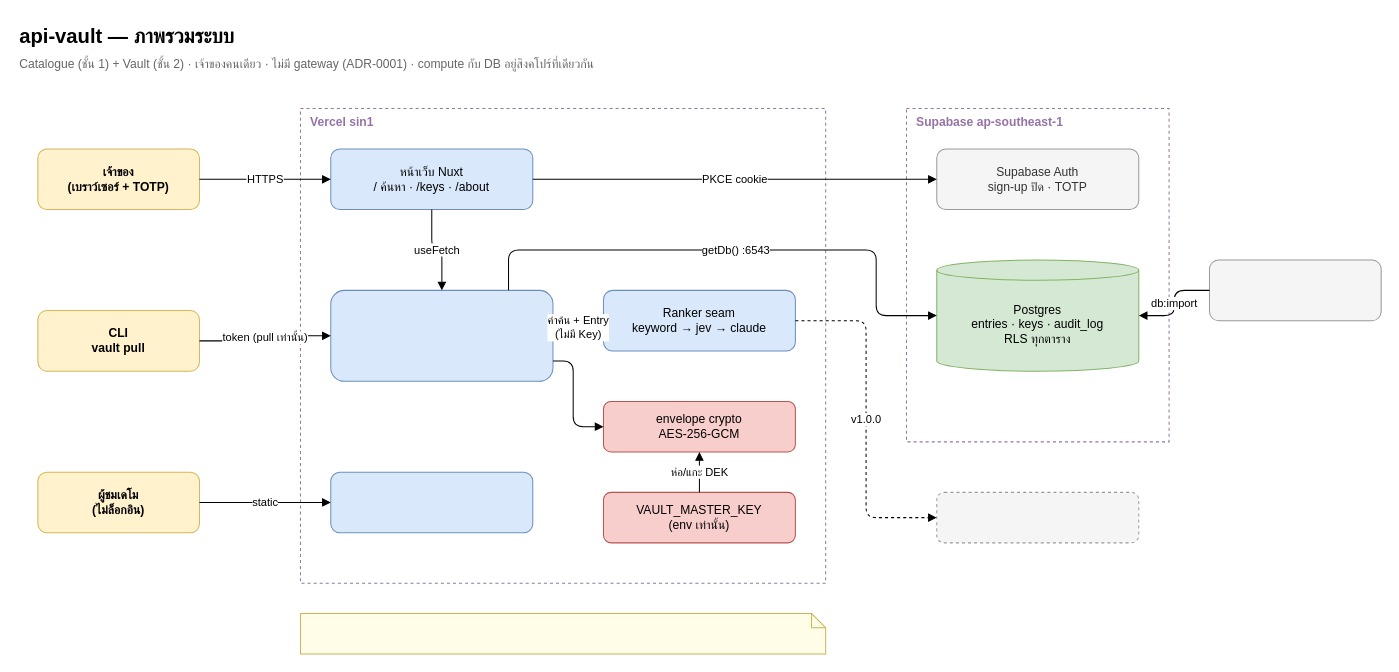
Some shapes in this 1399 by 672 pixel diagram are drawn without their labels. The centre of each missing label's shape, as x and y in pixels:
/demo (prerender) ผลที่คำนวณไว้แล้ว: point 431,502
public-apis README (MIT) → apis.json: point 1294,290
server routes (Nitro) /api/search · /api/keys · /api/pull ตรวจ getUser() + AAL2: point 441,335
TypeSafe Jev (รอ key): point 1037,517
❌ ไม่มีเส้นจาก Vault ออกไปยิง API ปลายทาง — Key ออกทาง Reveal / Pull เท่านั้น: point 562,633
